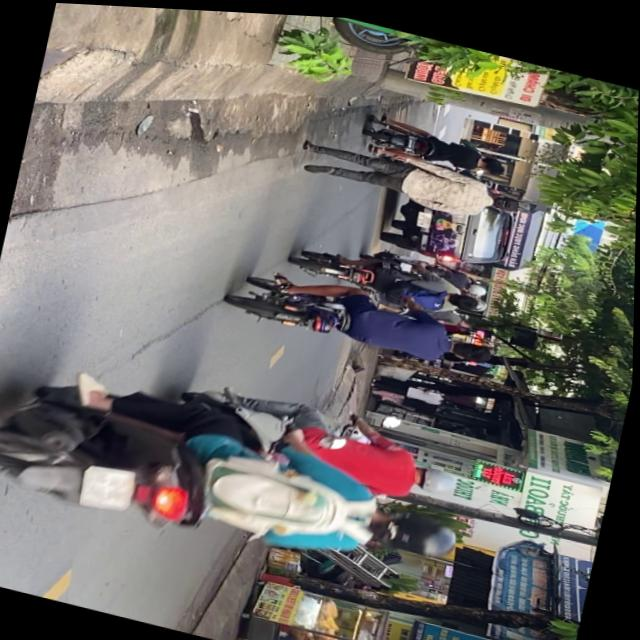helmet: (373, 499, 464, 560), (416, 459, 462, 494)
licenseplate: (0, 334, 484, 600), (147, 363, 474, 514), (224, 254, 503, 378), (286, 230, 494, 323)
motorcyclist: (448, 330, 496, 362), (449, 285, 487, 310)
nohelmet: (83, 462, 139, 515)
